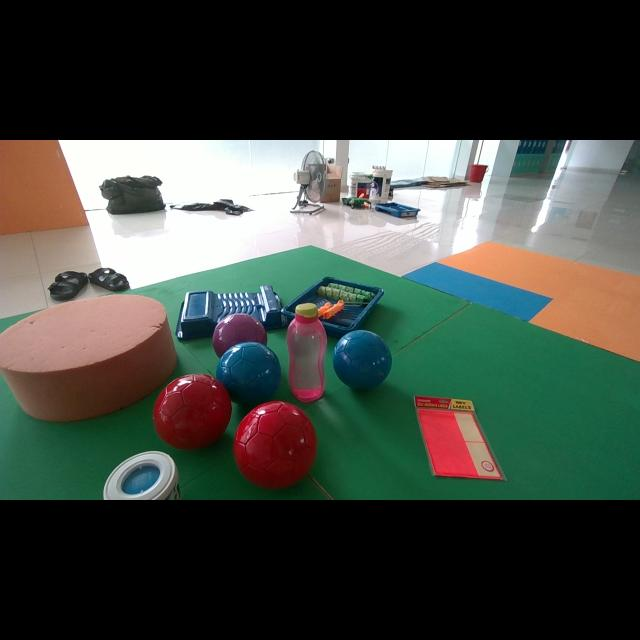B: (216, 341, 281, 405), (332, 330, 391, 390)
P: (212, 314, 268, 357)
R: (234, 401, 316, 489), (152, 375, 230, 449)
